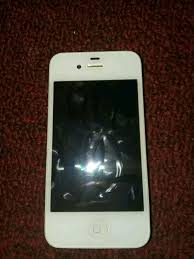iphone: (42, 47, 148, 250)
iphone4: (42, 47, 148, 250)
